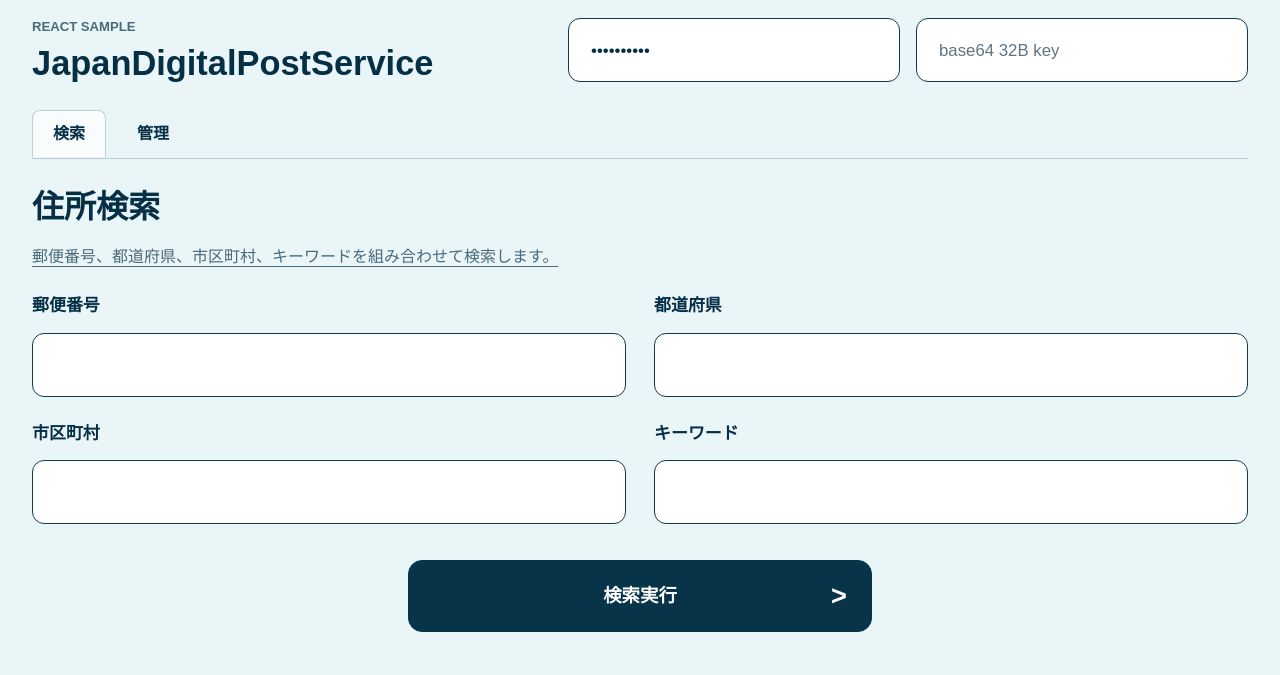
Test: App › shows a local validation message when searching without conditions
Click the button "検索実行".
click(640, 596)  # box [408,560,872,632]
(page scrolled)
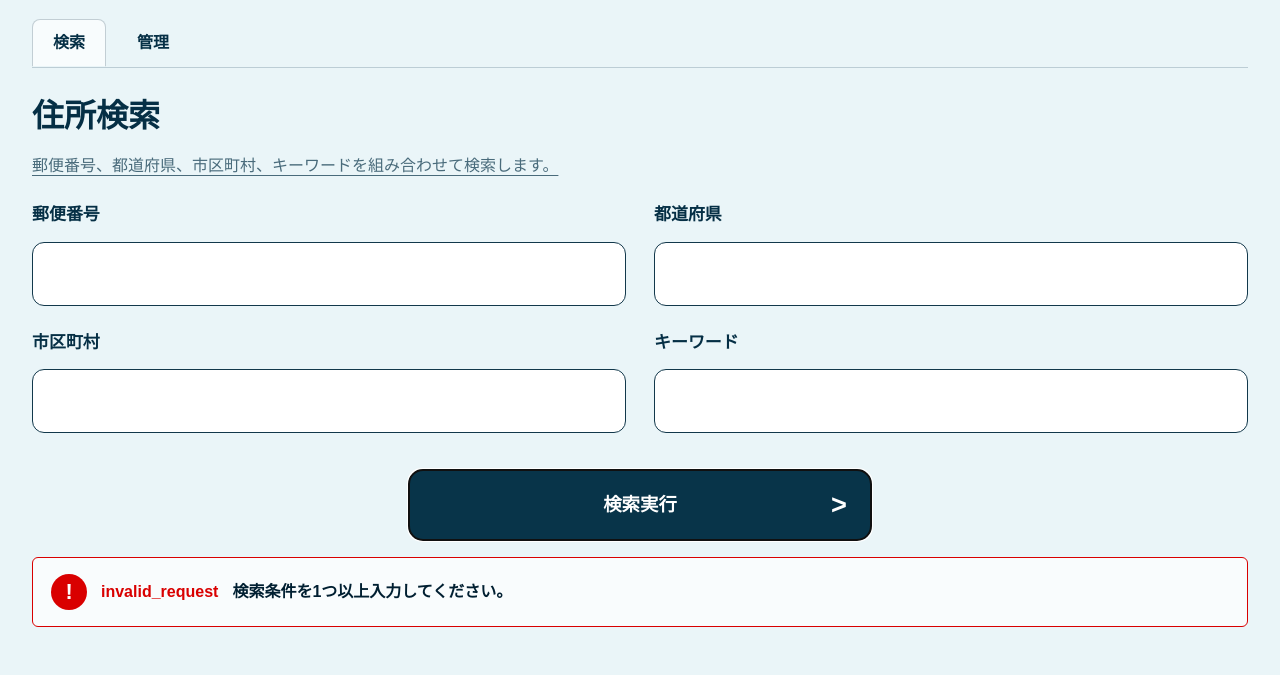
Now the message shows "検索条件を1つ以上入力してください。", box [232,583,512,600]
